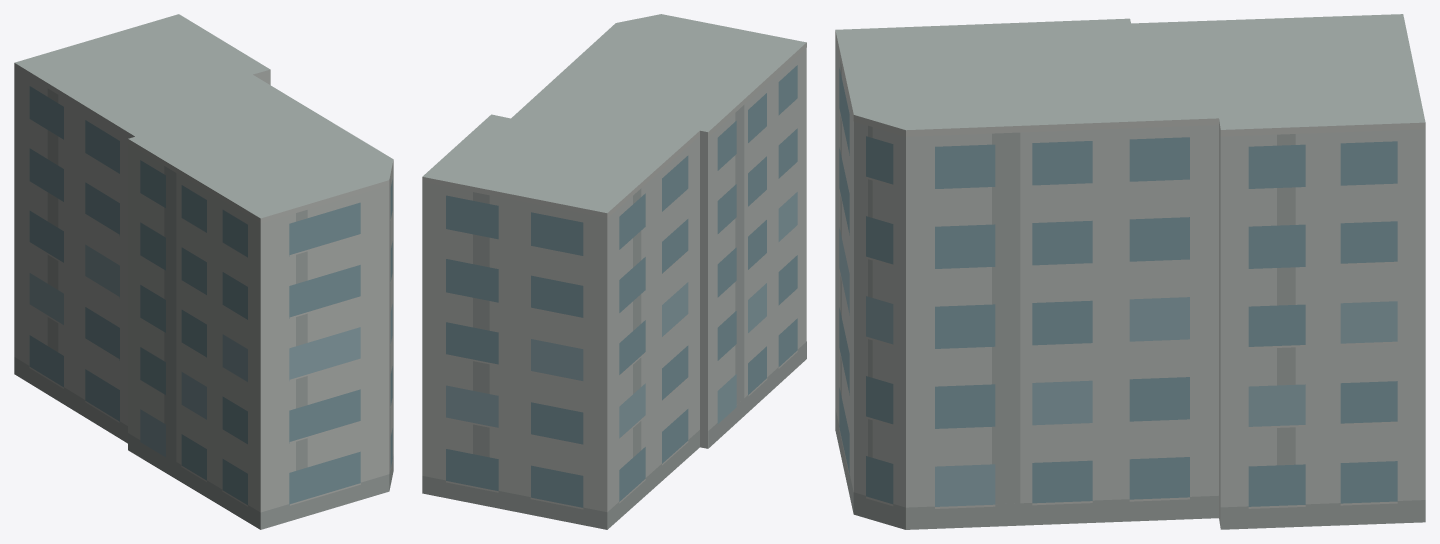
Rendered from survey-upis-32699914.glb.
3 renders of one model, left to right at view 1: azimuth 30°, elevation 25°; view 2: azimuth 150°, elevation 25°; view 3: azimuth 270°, elevation 25°, orthographic. The views are drawn at different scales.
Visible parts, largest first — view 1: survey-upis-32699914.tmp; view 2: survey-upis-32699914.tmp; view 3: survey-upis-32699914.tmp.
Part boxes in pixels (x1,y1,x2,y2): survey-upis-32699914.tmp: (14,14,393,529); survey-upis-32699914.tmp: (422,14,806,529); survey-upis-32699914.tmp: (835,14,1425,529).
Size of the model in its own units: 9.11 by 14.6 by 19.55.
